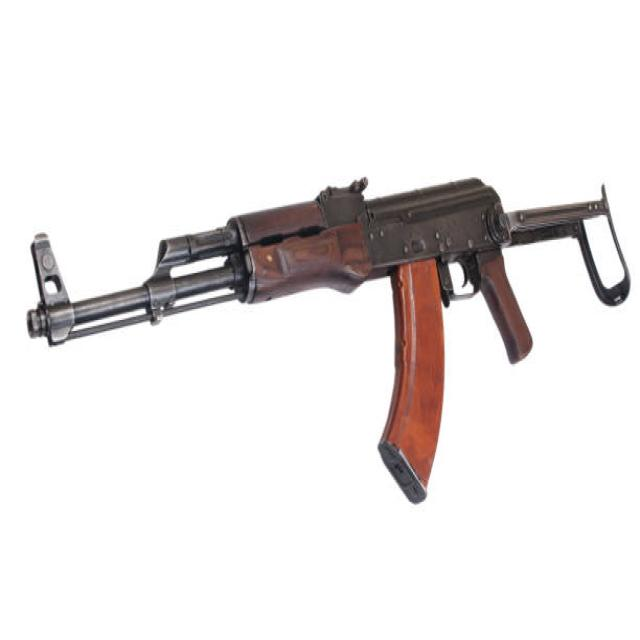rifle: (20, 162, 637, 529)
